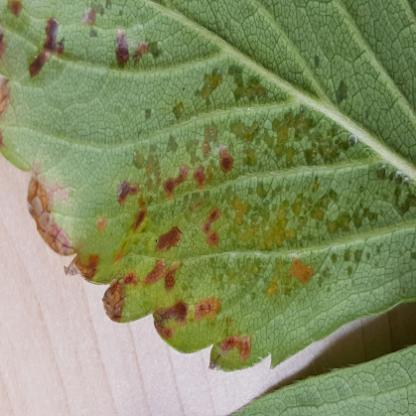Strawberry_Angular_LeafSpot: (0, 0, 416, 374)
